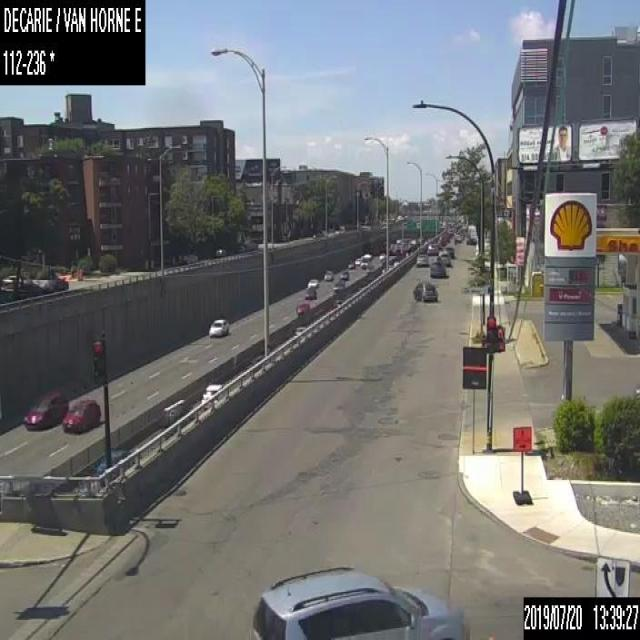construction: (511, 424, 531, 501), (75, 267, 81, 280)
vehicle: (250, 564, 468, 639), (23, 389, 68, 434), (160, 398, 195, 437), (95, 447, 131, 482), (62, 400, 101, 432), (199, 381, 223, 404), (413, 279, 436, 301), (208, 317, 229, 336), (429, 260, 445, 277), (438, 250, 450, 266), (427, 254, 442, 266), (361, 252, 372, 268), (415, 253, 428, 266), (426, 242, 438, 255), (465, 224, 476, 238), (296, 301, 308, 313), (332, 280, 344, 292), (305, 287, 316, 299), (306, 277, 318, 287), (323, 269, 332, 280), (294, 325, 305, 334), (466, 235, 476, 244), (453, 232, 461, 241), (340, 270, 347, 280), (354, 257, 360, 265), (348, 260, 354, 268)
